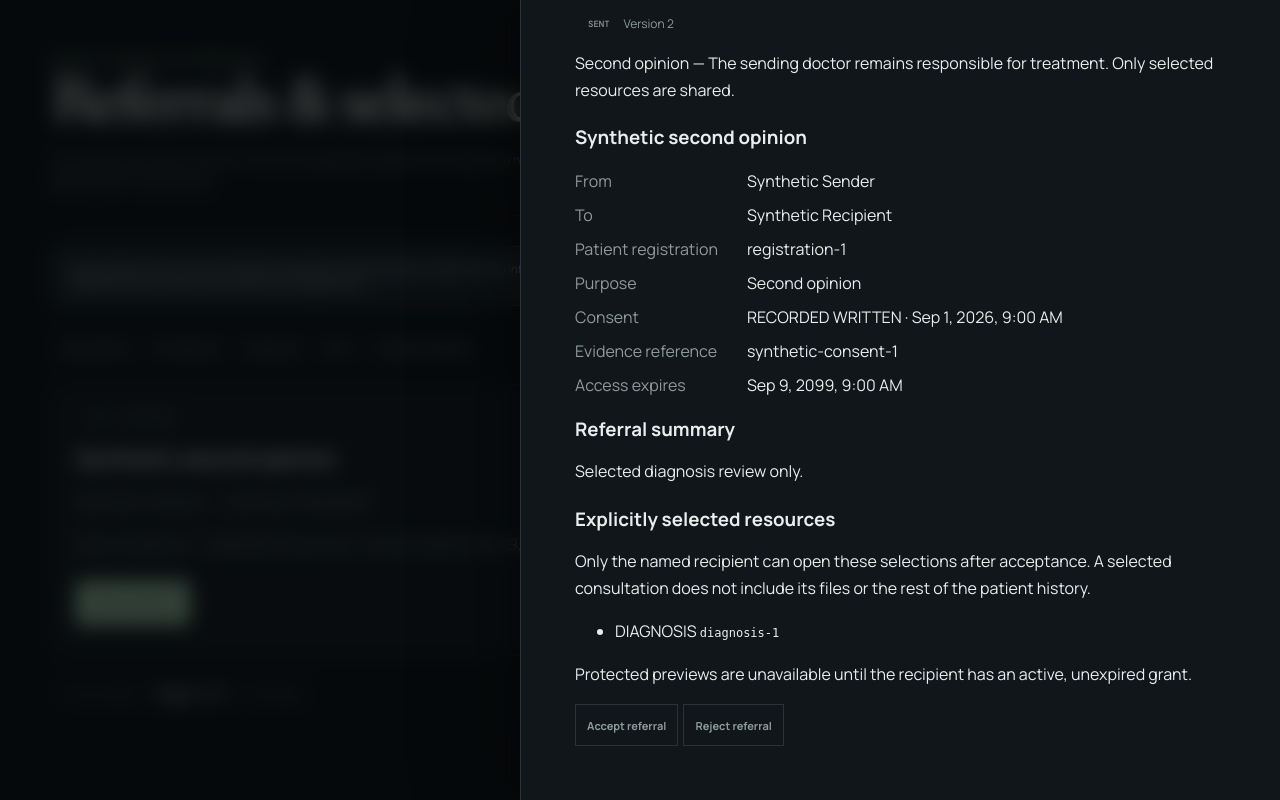
Test: accepts only after confirmation with the reviewed version and displays server state
(page scrolled)
Click the button "Accept referral". click: (627, 725)
box: top-left (575, 704), bottom-right (678, 746)
(page scrolled)
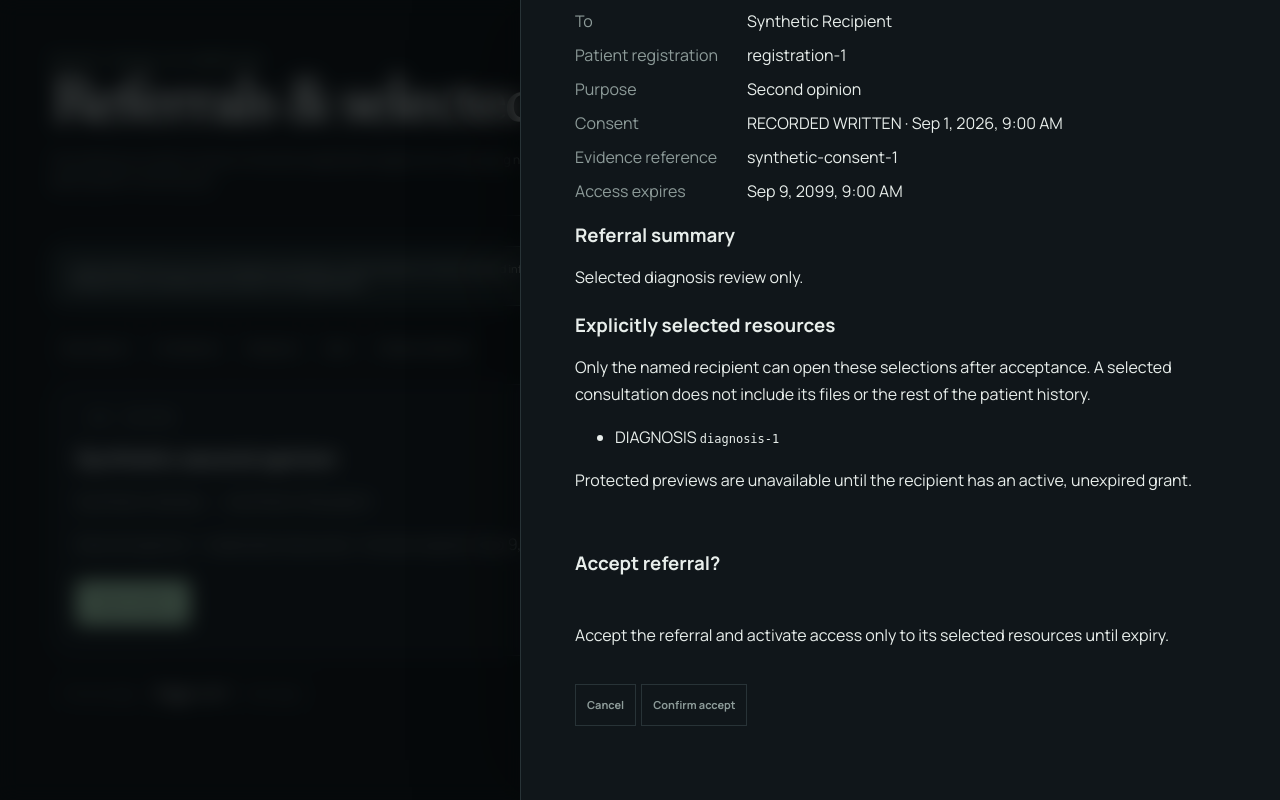
Click the button "Confirm accept". click: (694, 704)
box: top-left (641, 684), bottom-right (748, 726)
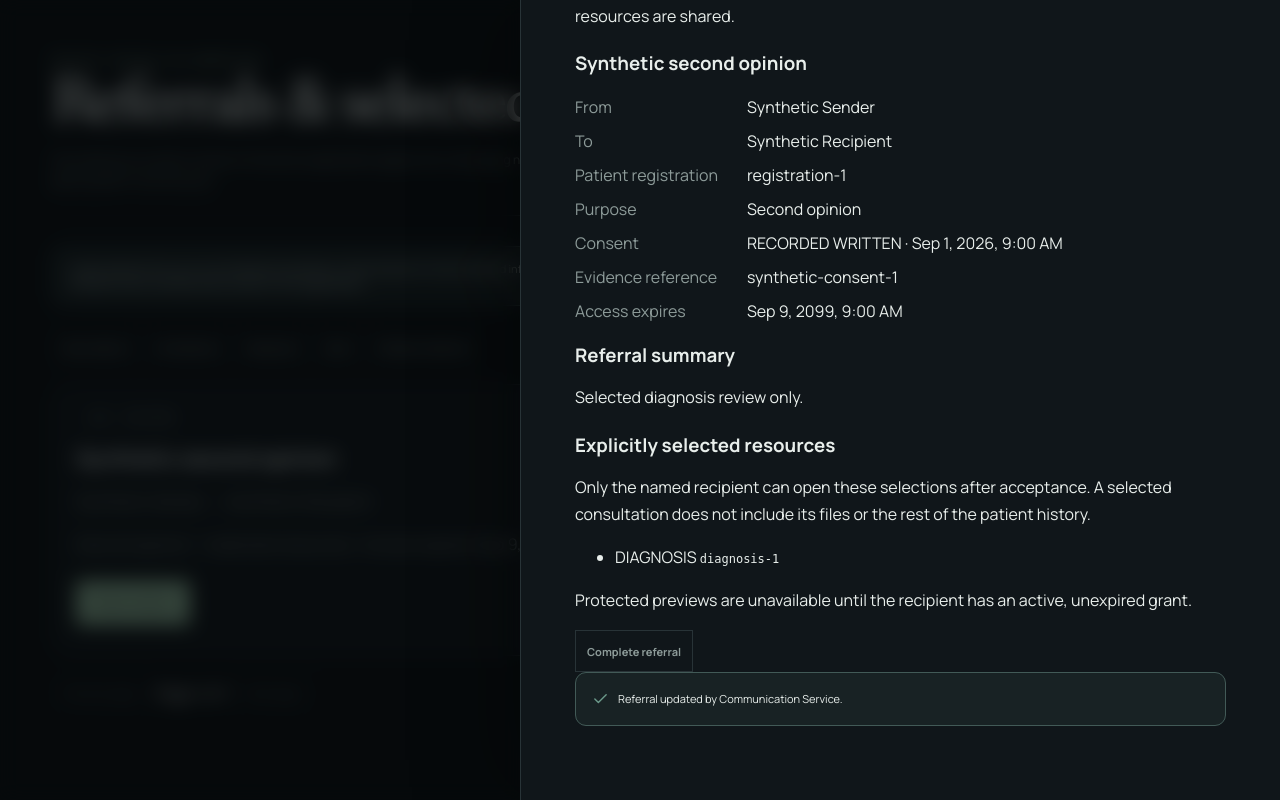
expect the button "Complete referral" is shown: met, box top-left (575, 630), bottom-right (693, 672)
expect the text "Referral updated by Communication Service." is shown: met, box top-left (575, 672), bottom-right (1226, 726)
